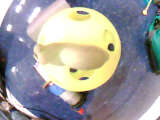Ball: (32, 6, 123, 92)
